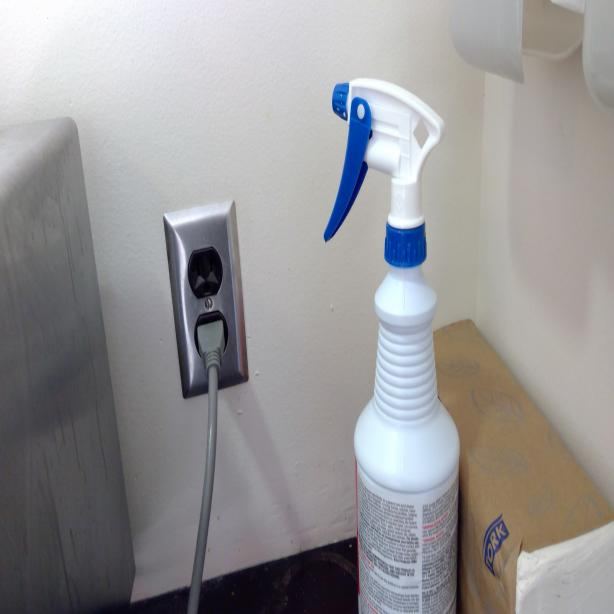typeb: (189, 250, 220, 296)
